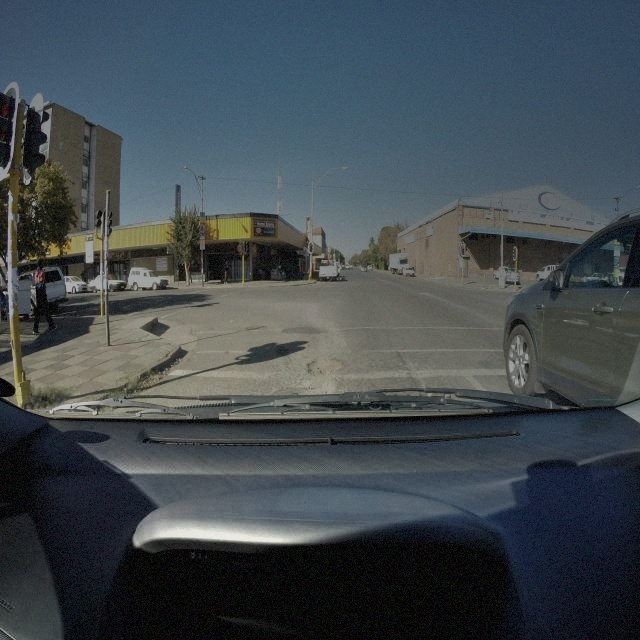pothole: (307, 354, 344, 374)
